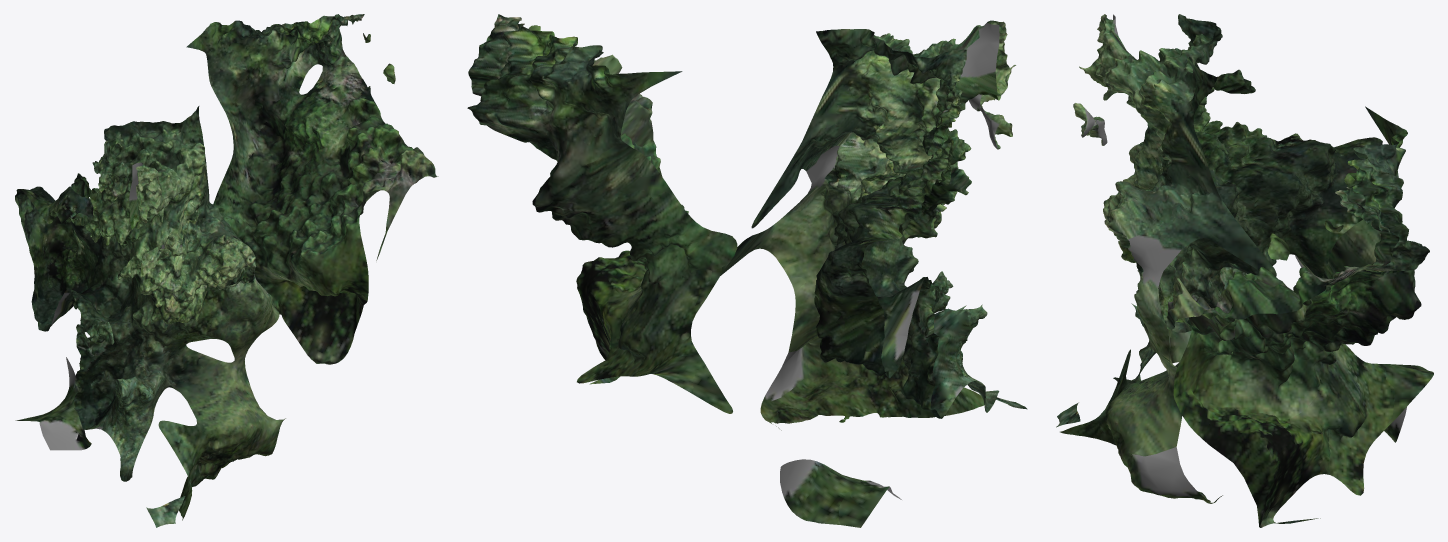
Rendered from Tile_+023_+017.fbx.
3 renders of one model, left to right at view 1: azimuth 30°, elevation 25°; view 2: azimuth 150°, elevation 25°; view 3: azimuth 270°, elevation 25°, orthographic. The views are drawn at different scales.
Parts seen in each view (by area): view 1: DefaultName; view 2: DefaultName; view 3: DefaultName.
Part boxes in pixels (left/top/right/bottom): DefaultName: left=15, top=14, right=438, bottom=527; DefaultName: left=467, top=14, right=1027, bottom=527; DefaultName: left=1056, top=14, right=1433, bottom=527.
Size of the model in its own units: 22.54 by 22.54 by 19.17.
